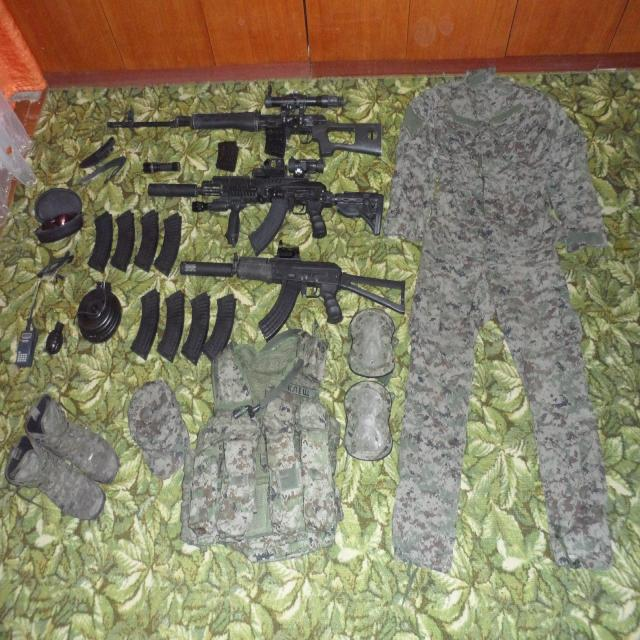firearm: (179, 239, 406, 344), (147, 158, 385, 258), (109, 90, 382, 160)
grenade: (46, 320, 66, 356)
knife: (78, 156, 127, 184)
